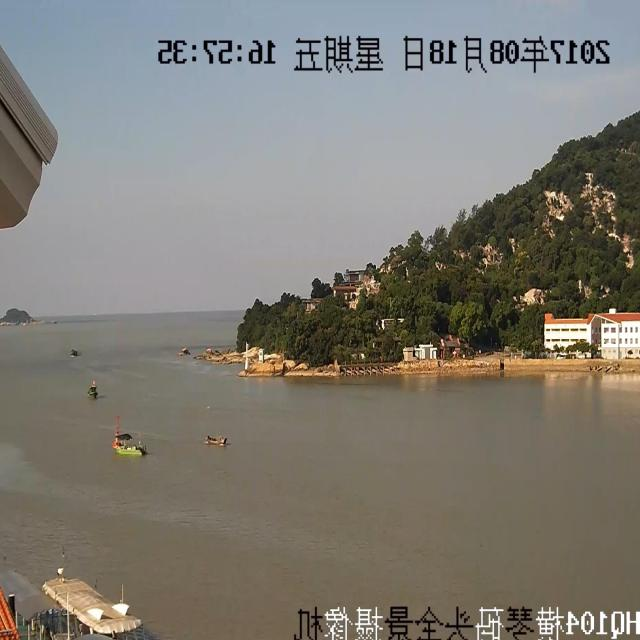fishing boat: (107, 424, 157, 464), (57, 328, 85, 372), (87, 372, 111, 408)
reef: (0, 295, 44, 329), (202, 423, 230, 451)
